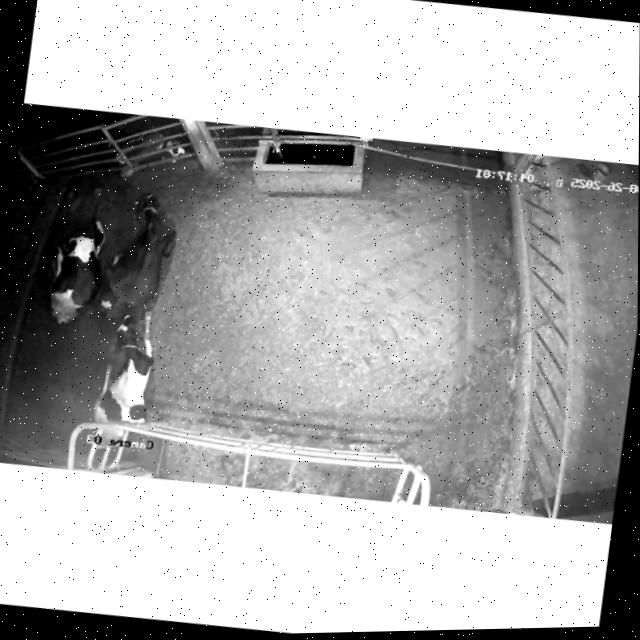lay: (89, 180, 191, 333), (30, 168, 110, 340), (77, 302, 171, 432)
